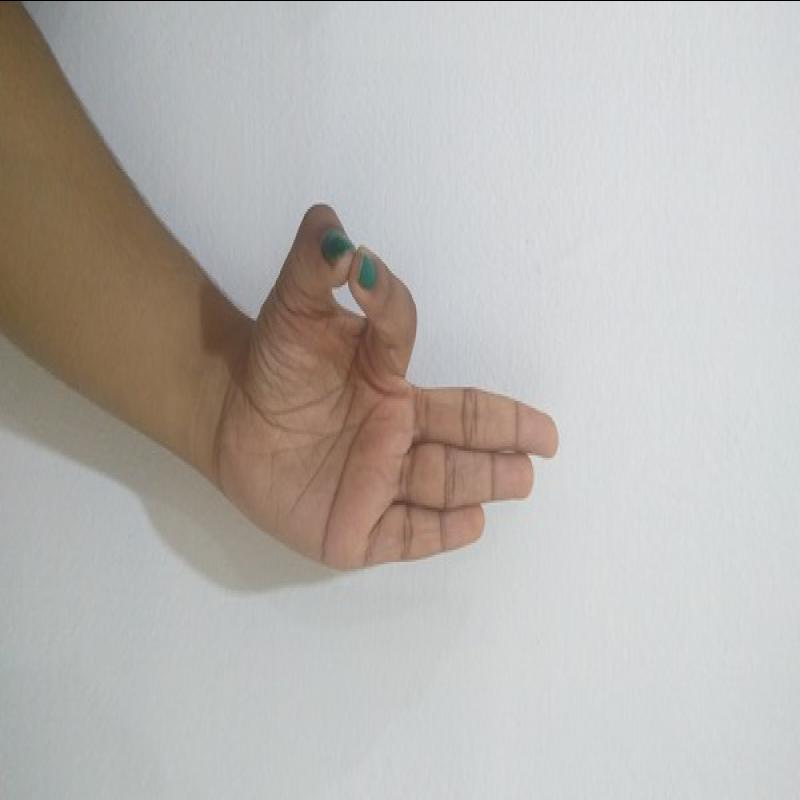Mudraakhyam: (177, 196, 568, 582)
